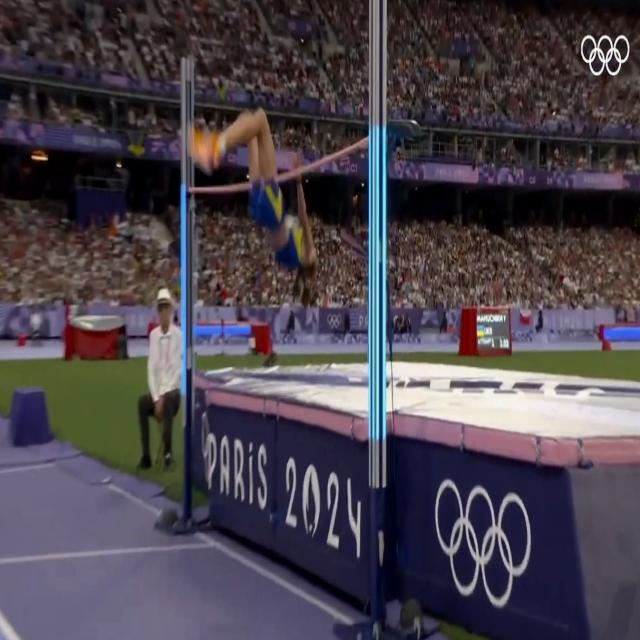land: (187, 106, 320, 280)
